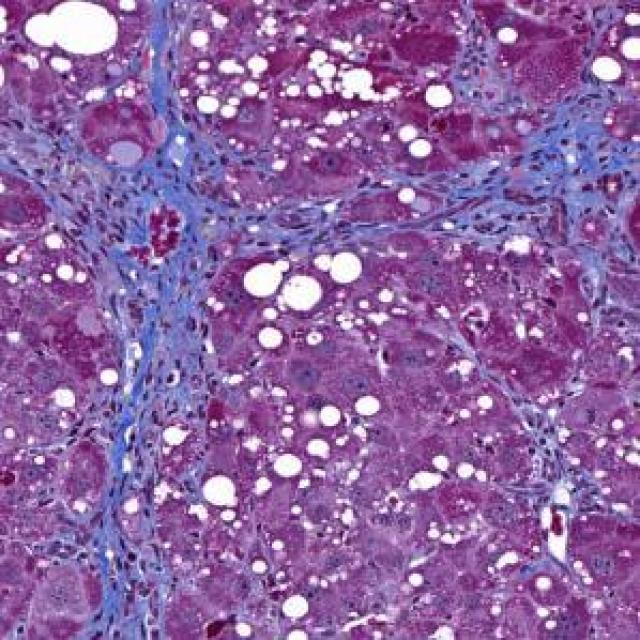fibrosis: (73, 148, 242, 413), (456, 128, 640, 266), (75, 503, 197, 636)
